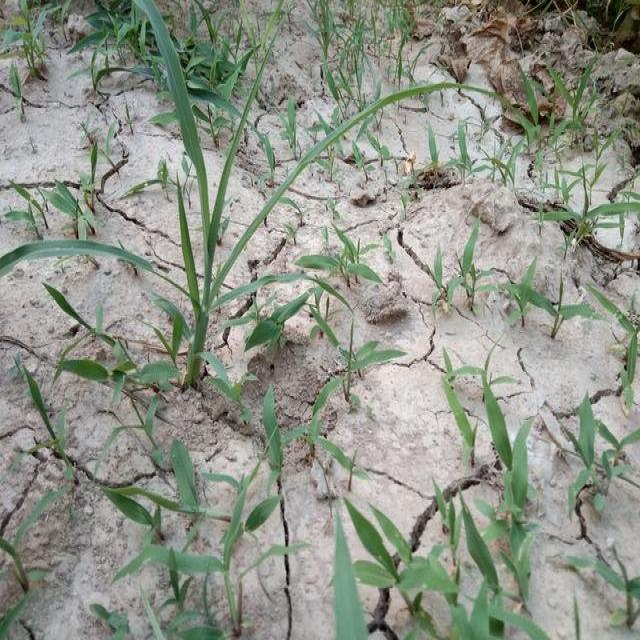weed: (4, 0, 540, 438), (0, 5, 413, 121), (421, 90, 640, 256), (106, 460, 298, 640), (339, 503, 555, 640), (436, 246, 604, 360), (441, 362, 528, 530), (560, 400, 636, 503)
